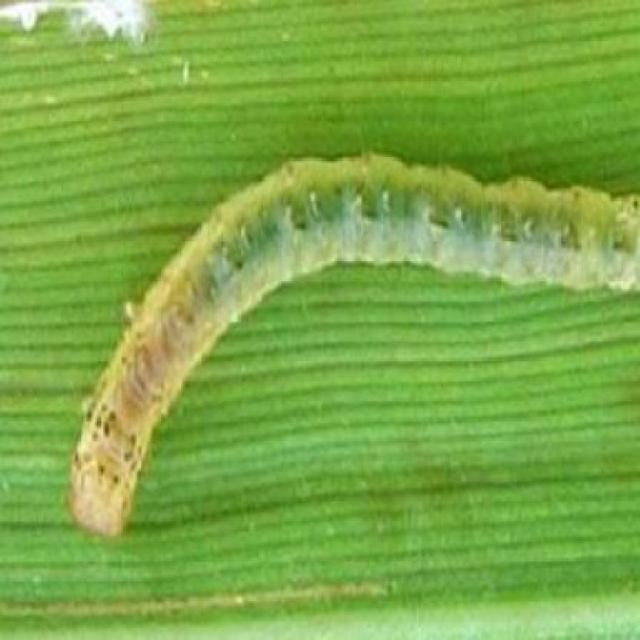leaf-folder: (58, 146, 637, 574)
